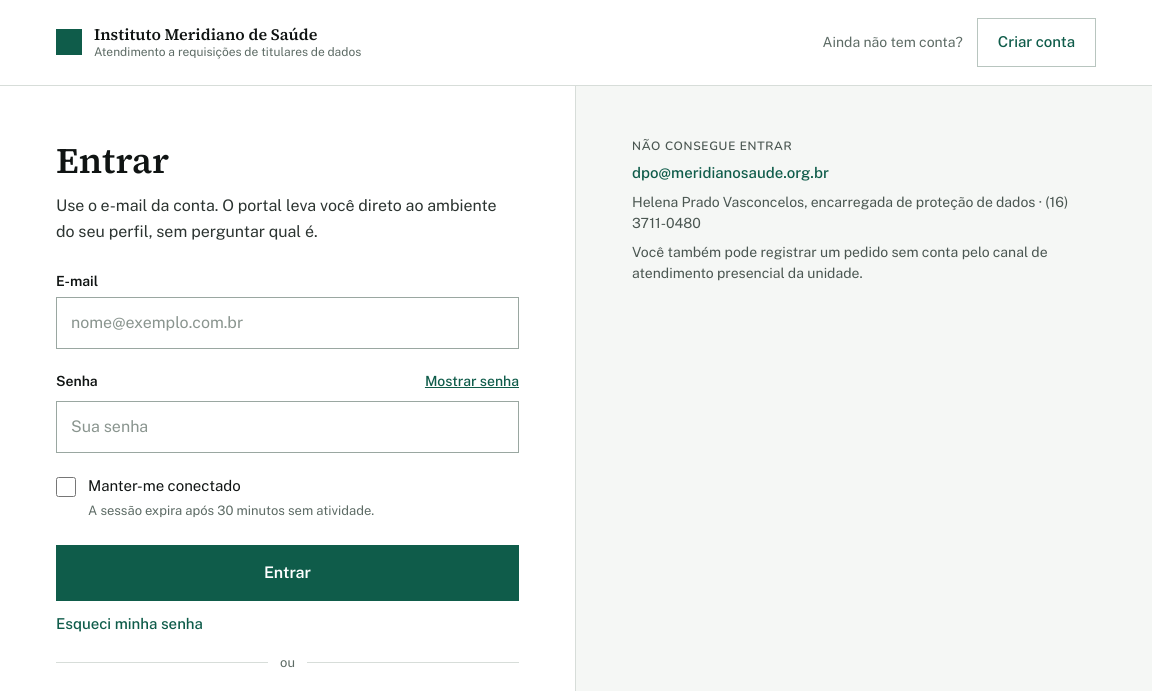
it: Acesso à conta › repete a recusa do servidor sem dizer qual campo falhou (RN009)
Type "titular@exemplo.com.br" into the field labelled "E-mail".
click(288, 323); type("titular@exemplo.com.br")  # box 56,297 -> 519,349
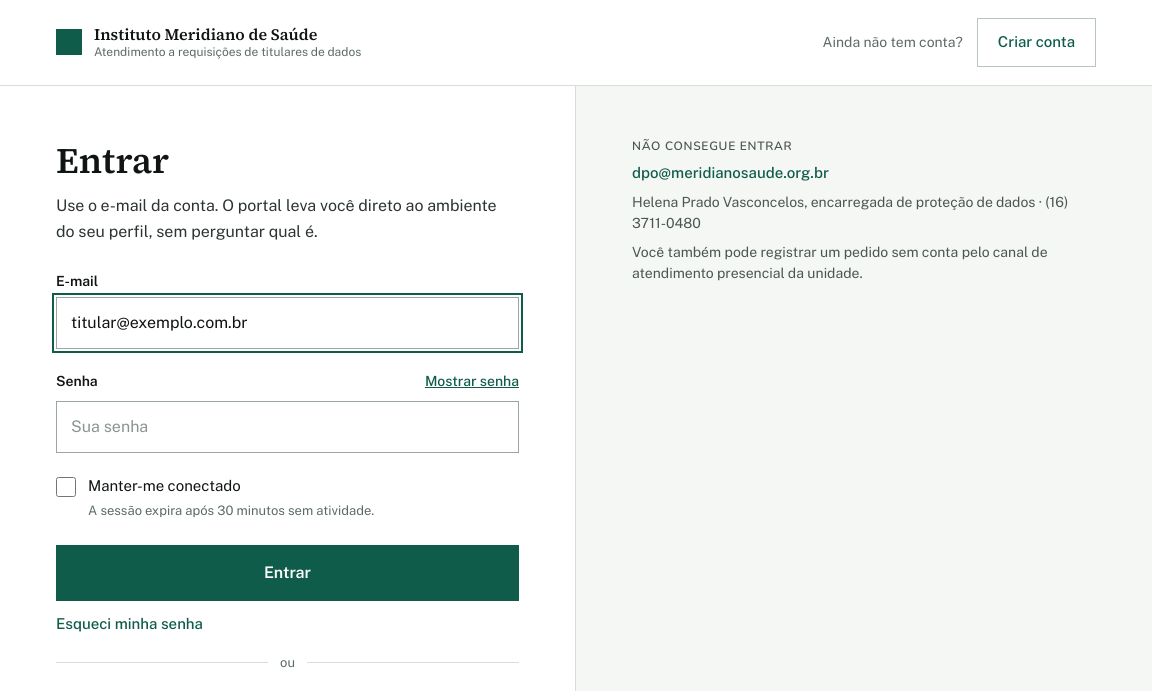
Type "senhaerrada" into the password field labelled "Senha".
click(288, 427); type("senhaerrada")  # box 56,401 -> 519,453
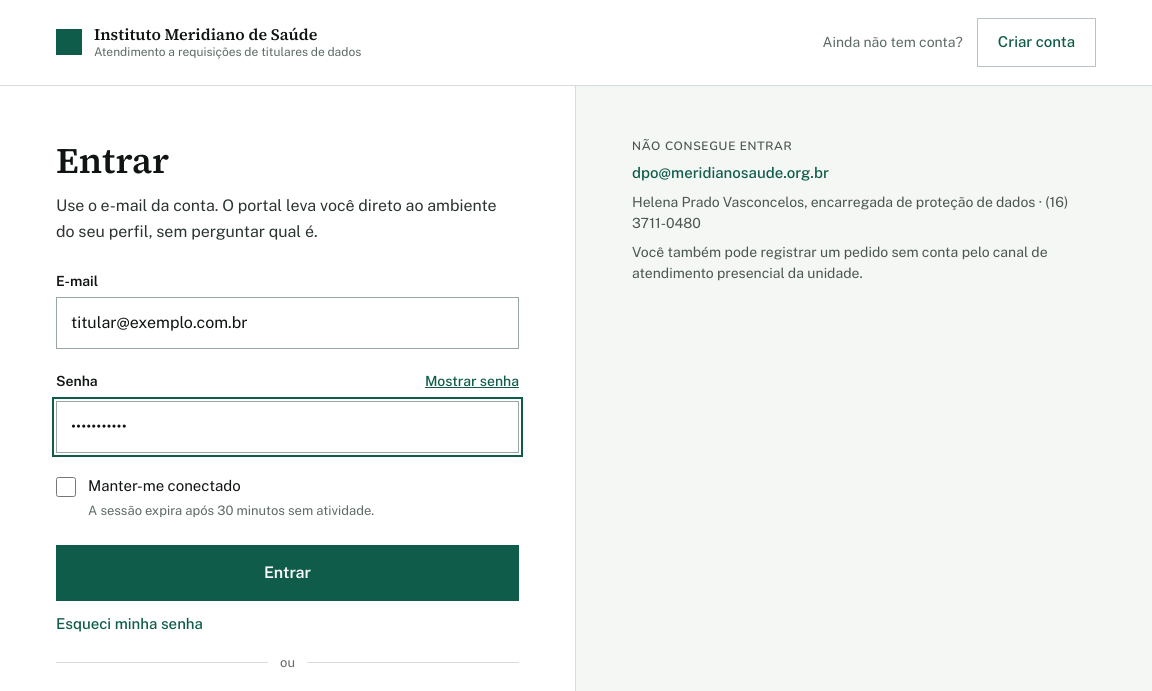
Click the submit button.
click(288, 573)  # box 56,545 -> 519,601
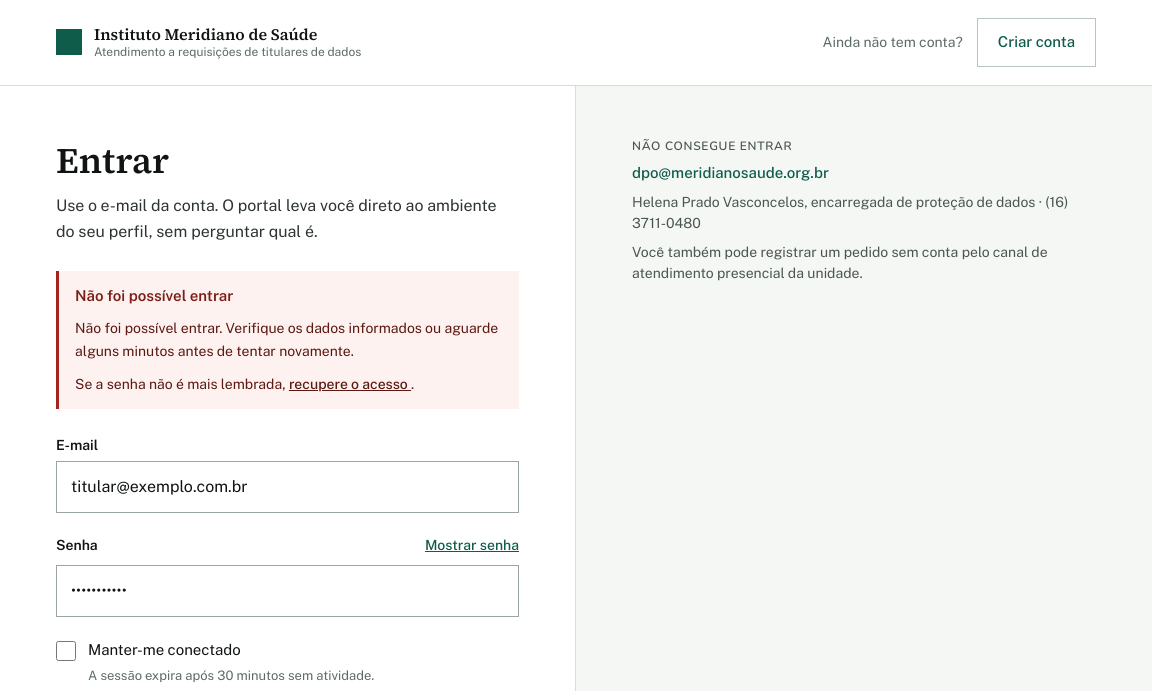
Expected: the text "Não foi possível entrar" is shown, 75,286 -> 233,304
Expected: the text "aguarde alguns minutos" is shown, 75,320 -> 498,359
